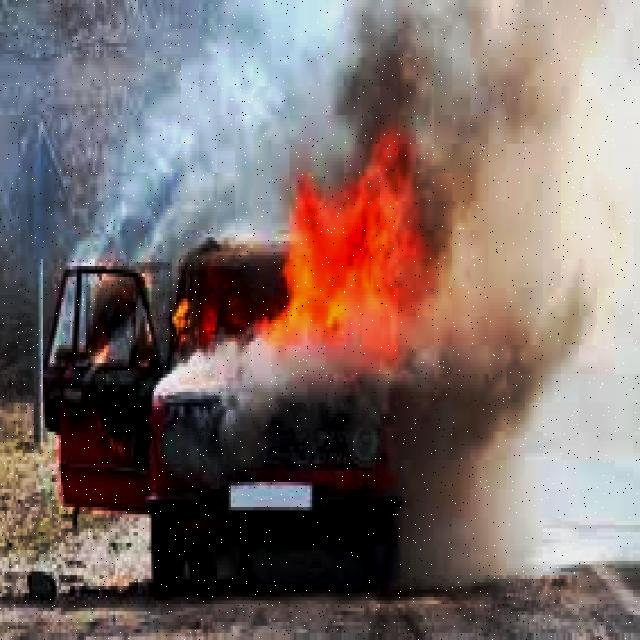api: (282, 142, 445, 354), (164, 181, 316, 401), (57, 231, 173, 454)
